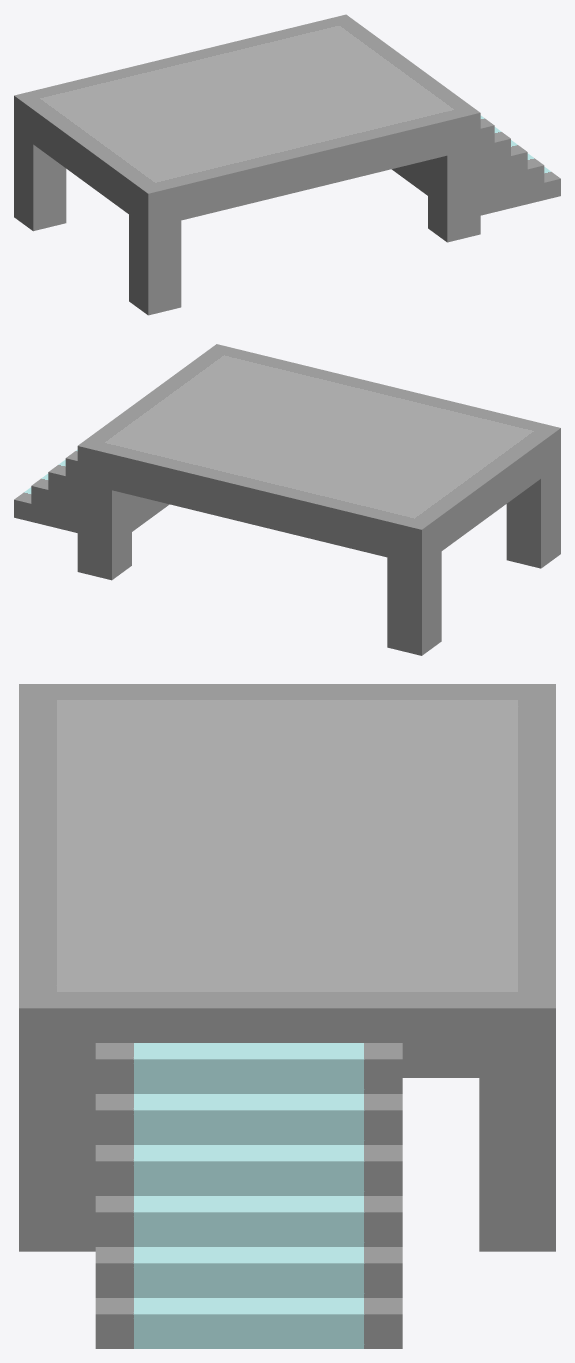
File: obj_stage.fbx
The picture shows the model from 3 angles, top to bottom: view 1: azimuth 30°, elevation 25°; view 2: azimuth 150°, elevation 25°; view 3: azimuth 270°, elevation 25°; orthographic projection. The views are drawn at different scales.
Visible parts, largest first — view 1: obj_stage; view 2: obj_stage; view 3: obj_stage.
Part boxes in pixels (bbox=[...]): obj_stage: bbox=[14, 14, 560, 315]; obj_stage: bbox=[14, 344, 560, 655]; obj_stage: bbox=[19, 684, 555, 1348].
Size of the model in its own units: 2.6 by 1.4 by 0.7.
Materials: 1 (1 with a texture image).
